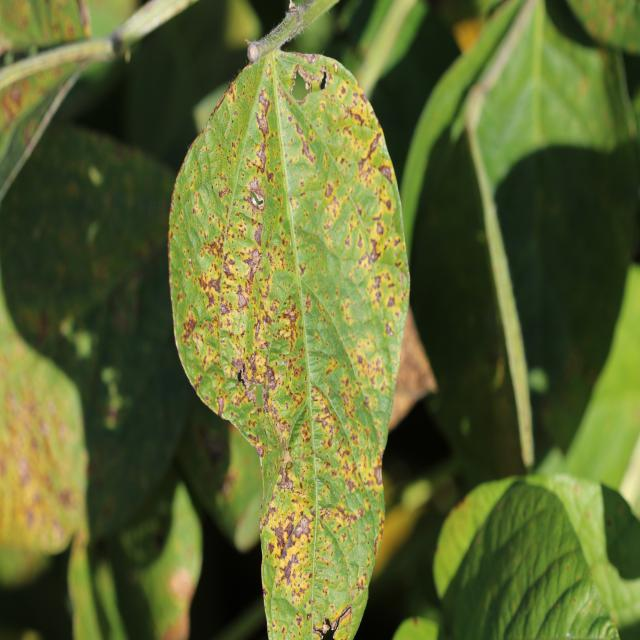Bacterial_Blight: (221, 227, 296, 404), (314, 396, 374, 500), (347, 247, 397, 323), (208, 96, 247, 185), (269, 506, 316, 568), (184, 309, 223, 383), (350, 340, 389, 393), (195, 260, 225, 306), (289, 61, 322, 101), (201, 423, 226, 464), (330, 603, 355, 640), (210, 81, 232, 119), (342, 104, 368, 127), (324, 193, 342, 220), (300, 139, 316, 164), (357, 158, 374, 180), (368, 238, 382, 263), (378, 164, 393, 183), (253, 223, 264, 246), (258, 91, 270, 112), (236, 291, 249, 310), (355, 573, 368, 591), (324, 181, 334, 198), (375, 221, 384, 236), (457, 499, 468, 511), (266, 170, 274, 184), (339, 85, 347, 97), (573, 483, 580, 494), (584, 511, 591, 520), (606, 518, 612, 528), (333, 64, 339, 74), (522, 509, 527, 516)
Soybean: (166, 46, 410, 640)
